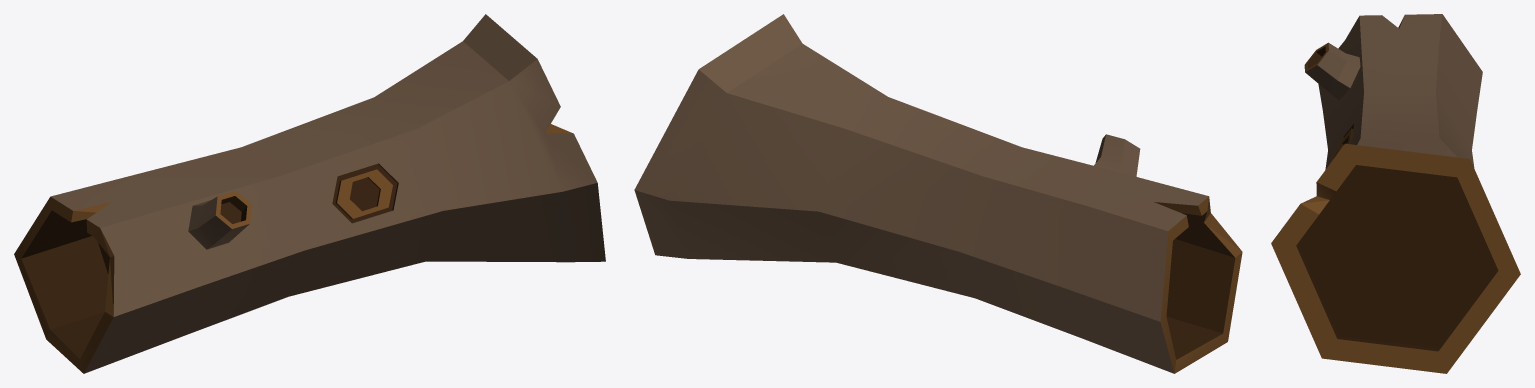
The model's file is Tree_Log_02.fbx.
3 renders of one model, left to right at view 1: azimuth 30°, elevation 25°; view 2: azimuth 150°, elevation 25°; view 3: azimuth 270°, elevation 25°, orthographic. The views are drawn at different scales.
Parts seen in each view (by area): view 1: Tree_Log_02; view 2: Tree_Log_02; view 3: Tree_Log_02.
Boxes of the visible parts, bbox=[...] form: Tree_Log_02: bbox=[14, 14, 605, 373]; Tree_Log_02: bbox=[634, 14, 1242, 373]; Tree_Log_02: bbox=[1271, 14, 1520, 373].
Bounding box in the file's own units: 69.02 × 27.39 × 31.3.
